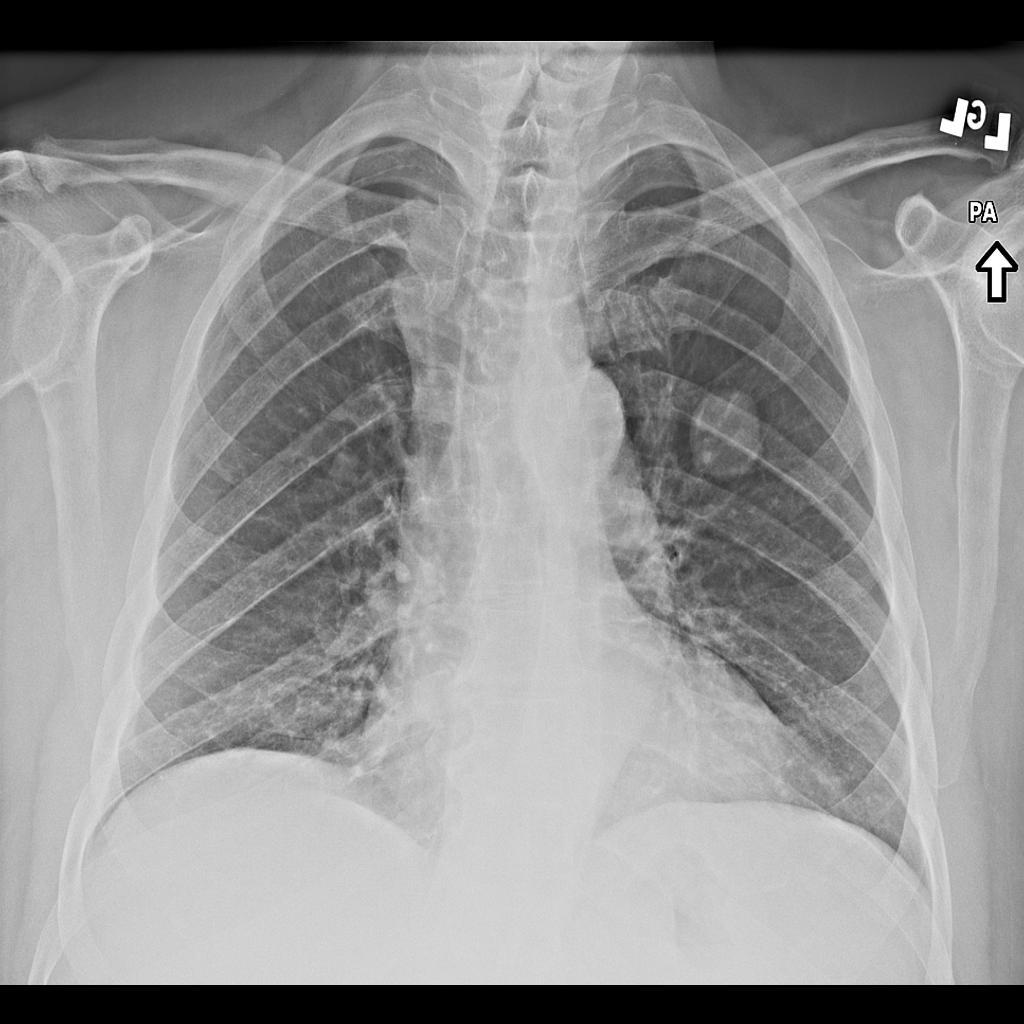Nodule: (686, 380, 779, 487)
